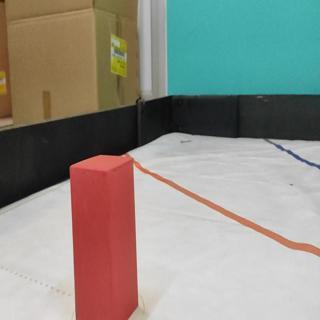redbox: (70, 153, 138, 320)
